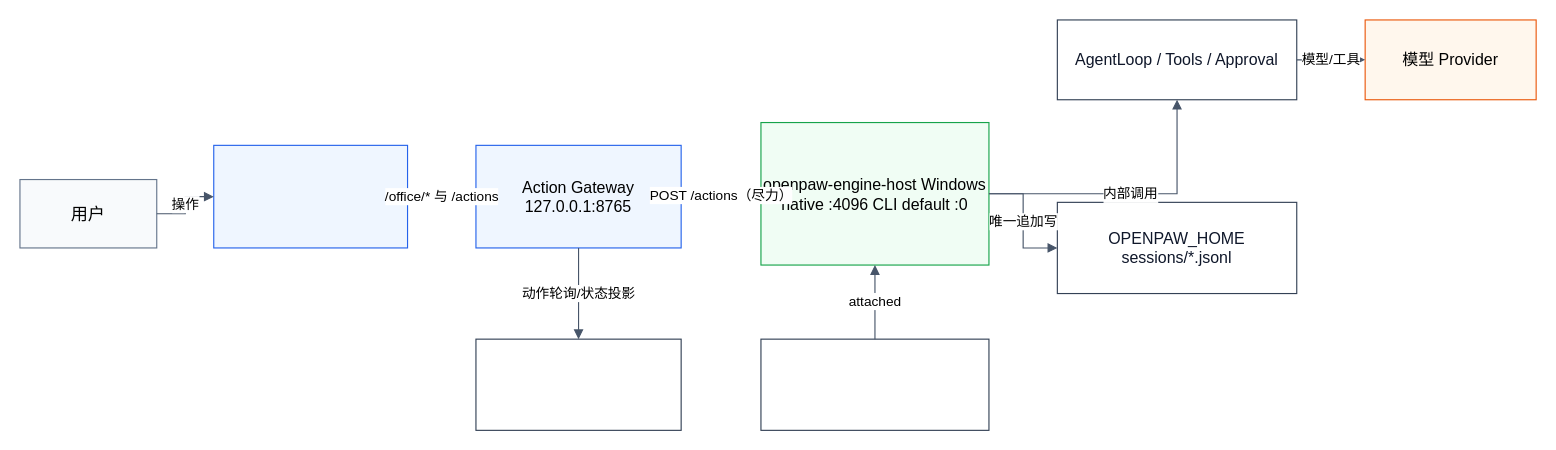
Some shapes in this 1556 by 450 pixel diagram are drawn without their labels. The centre of each missing label's shape, as x and y in pixels:
"OpenWork attached (OpenCode v1)" goes at (x=874, y=384).
"Pixi / Spine 办公室场景" goes at (x=578, y=384).
"React / Vite 127.0.0.1:5173" goes at (x=310, y=196).
